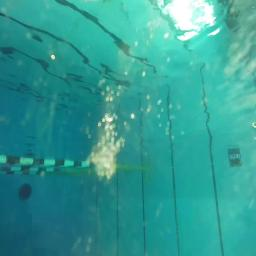front: (228, 149, 241, 167)
